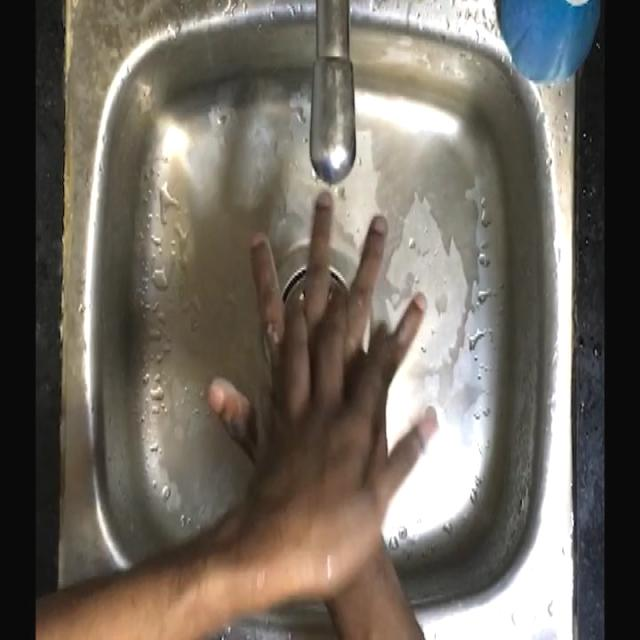step_2: (203, 185, 458, 538)
